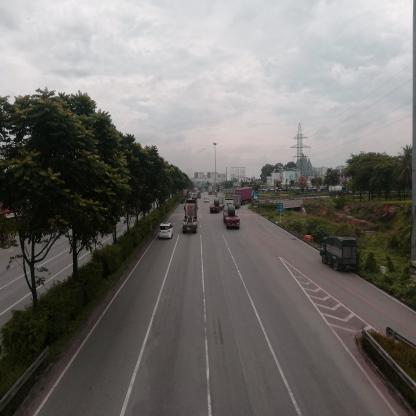car: (161, 224, 174, 240), (205, 196, 210, 204)
container: (185, 202, 198, 232), (224, 201, 235, 226), (243, 188, 255, 204), (216, 194, 226, 209)
truck: (321, 239, 357, 271), (330, 187, 347, 197), (234, 196, 243, 209)
